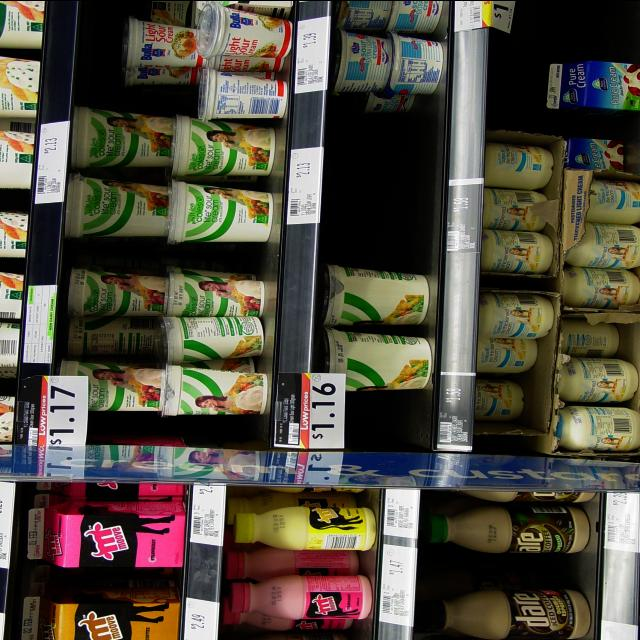empty_space: (335, 120, 425, 248), (529, 0, 639, 51), (441, 549, 577, 587), (363, 392, 425, 448)
